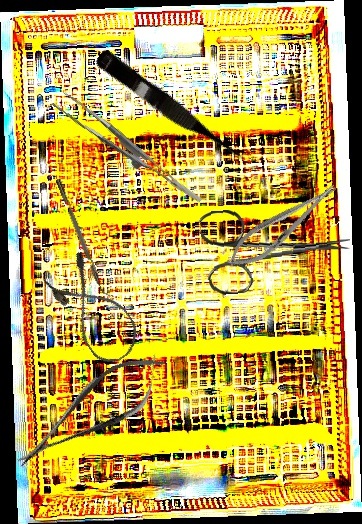Cannula: (40, 249, 148, 371)
Chopper: (55, 176, 112, 299)
Iris Scissors: (198, 199, 354, 297)
Micro Scissor: (3, 340, 179, 483), (91, 47, 250, 173)
Needle Holder: (220, 174, 345, 278)
Tissue Forceps: (51, 77, 203, 226)
